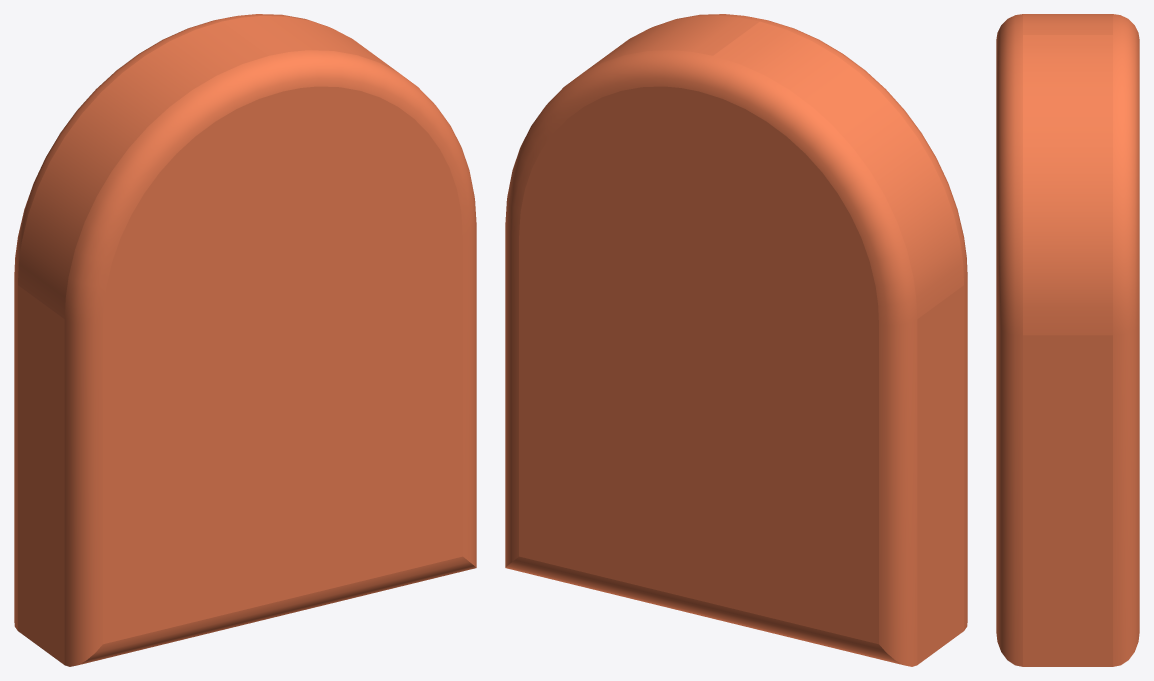
Rendered from grave.glb.
The picture shows the model from 3 angles, left to right: view 1: azimuth 30°, elevation 25°; view 2: azimuth 150°, elevation 25°; view 3: azimuth 270°, elevation 25°; orthographic projection. The views are drawn at different scales.
Visible parts, largest first — view 1: GRAVE; view 2: GRAVE; view 3: GRAVE.
Boxes of the visible parts, x1,y1,x2,y2 form: GRAVE: [14, 14, 476, 666]; GRAVE: [505, 14, 967, 666]; GRAVE: [996, 14, 1139, 666].
Size of the model in its own units: 0.543 by 0.711 by 0.1724.
